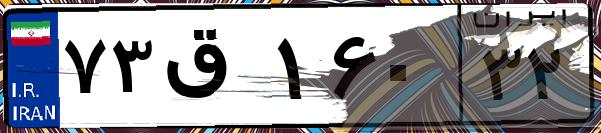0: (385, 28, 445, 110)
1: (270, 28, 330, 110)
2: (525, 38, 570, 115)
3: (475, 38, 525, 113), (110, 28, 158, 98)
6: (330, 28, 385, 110)
7: (57, 26, 110, 100)
ق: (158, 20, 270, 120)
